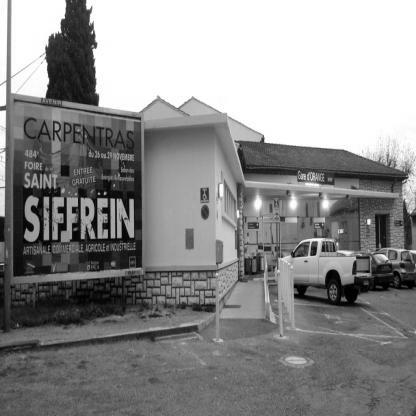truck: (270, 239, 376, 310)
